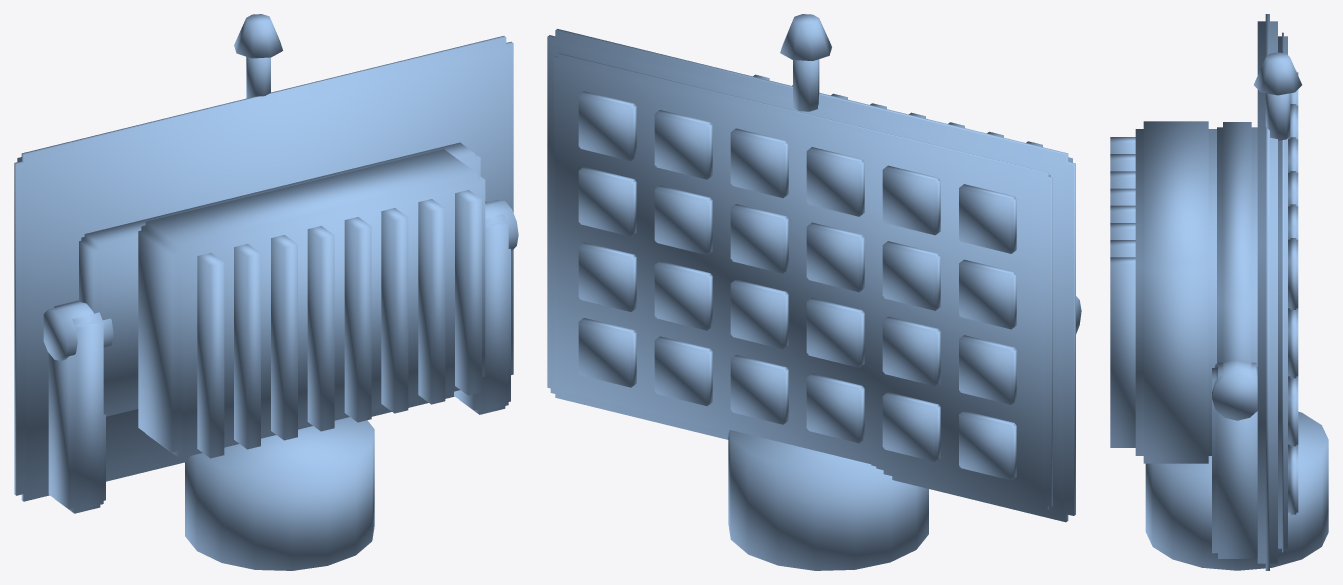
File: sensor_phased_array.glb
The picture shows the model from 3 angles, left to right: view 1: azimuth 30°, elevation 25°; view 2: azimuth 150°, elevation 25°; view 3: azimuth 270°, elevation 25°; orthographic projection. The views are drawn at different scales.
Parts seen in each view (by area): view 1: sensor_phased_array; view 2: sensor_phased_array; view 3: sensor_phased_array.
Part boxes in pixels (left/top/right/bottom): sensor_phased_array: left=14, top=14, right=518, bottom=570; sensor_phased_array: left=547, top=14, right=1081, bottom=570; sensor_phased_array: left=1110, top=14, right=1328, bottom=570.
Bounding box in the file's own units: 0.54 × 0.515 × 0.215.
